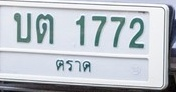txt16: (34, 13, 55, 46)
txt21: (12, 12, 33, 45)
